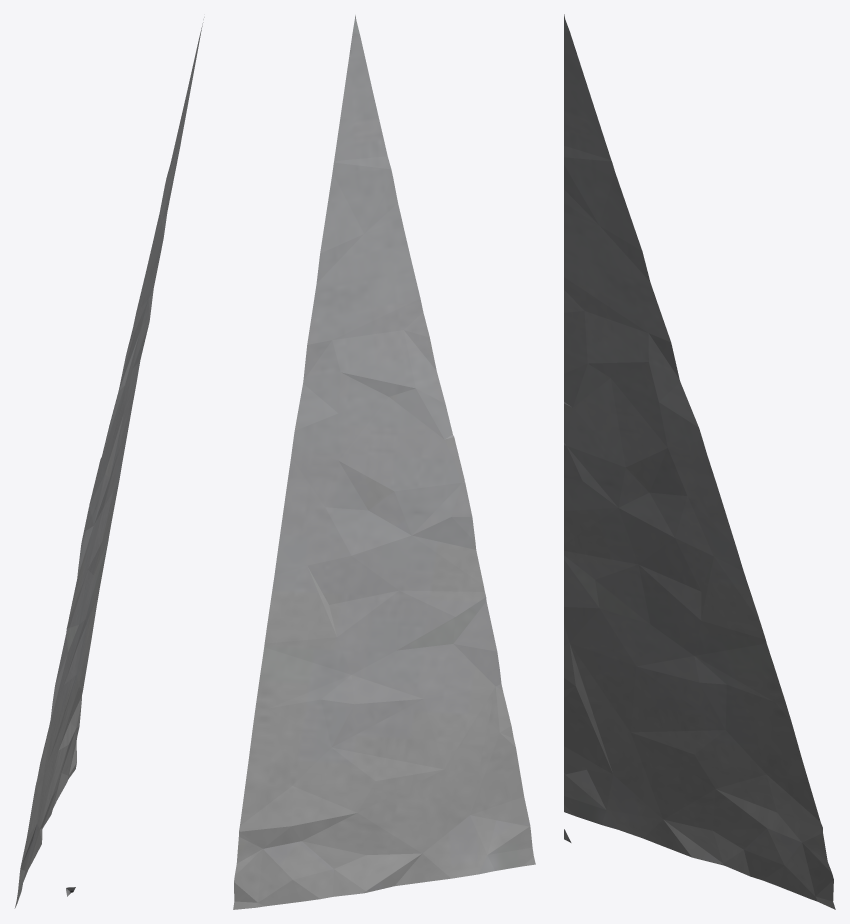
3 renders of one model, left to right at view 1: azimuth 30°, elevation 25°; view 2: azimuth 150°, elevation 25°; view 3: azimuth 270°, elevation 25°, orthographic. The views are drawn at different scales.
Size of the model in its own units: 0.3709 by 1.58 by 0.4352.
1 material, 1 textured.
